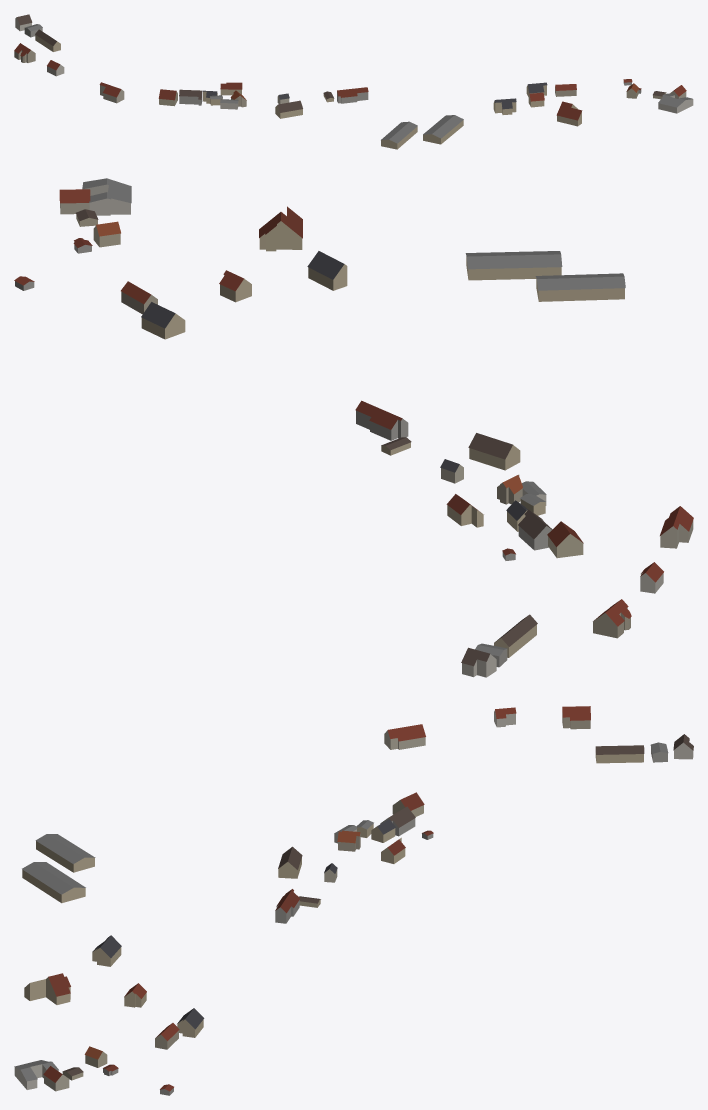
3 views of the same model, one above another, from view 1: azimuth 30°, elevation 25°; view 2: azimuth 150°, elevation 25°; view 3: azimuth 270°, elevation 25° (orthographic). The views are drawn at different scales.
Parts seen in each view (by area): view 1: buildings; view 2: buildings; view 3: buildings.
Boxes of the visible parts, x1=… form: buildings: x1=14, y1=14, x2=693, y2=149; buildings: x1=14, y1=178, x2=693, y2=677; buildings: x1=14, y1=706, x2=693, y2=1095.
Size of the model in its own units: 491 by 44.66 by 414.
